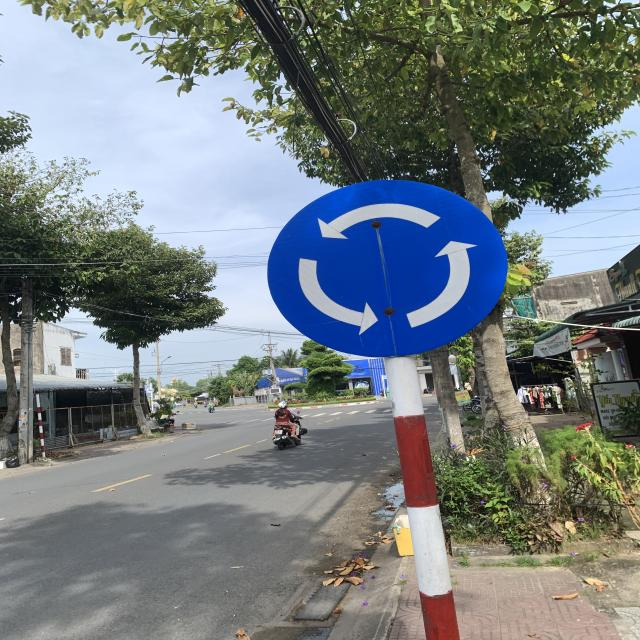Xe_Bus: (268, 179, 510, 359)
